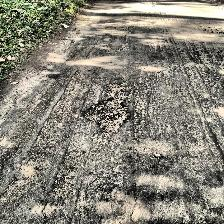pothole: (82, 82, 130, 134), (194, 21, 224, 35)
